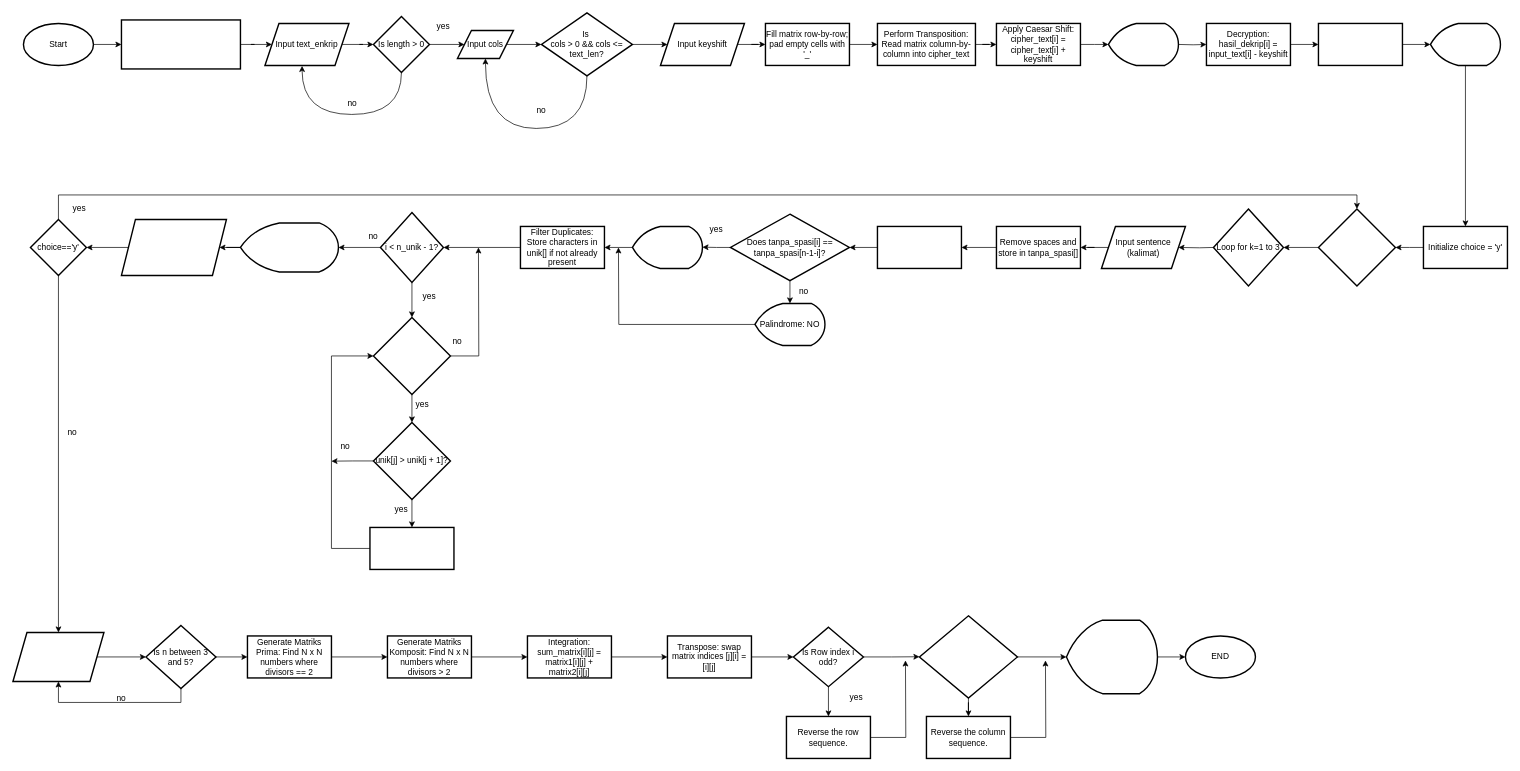
This 1520x771 diagram has some shape labels left out. The shapes that lost their labels are listed below. From the top down, each one's centre as x and y in pixels, then its label:
pixel 180 44: Initialize char text_enkrip[1024], int cols, int keyshift, and char matrix[2000]
pixel 1143 44: Display cipher_text
pixel 1360 44: Map to matrix column-by-column; read row-by-row while ignoring '_'
pixel 1465 44: Display Final Decrypted Result
pixel 173 247: input choice (y/n)
pixel 289 247: Display Char Count, Original, Inverse, Swap, and Sorted Unique Chars
pixel 667 247: Palindrome: YES
pixel 919 247: Create Inverse string and Swap character at index 0 with index n-1
pixel 1356 247: While choice == 'y'?
pixel 411 355: j < n_unik - i - 1? )
pixel 411 548: Swap unik[j] and unik[j+1]
pixel 58 656: Input matrix size (n)
pixel 968 656: Is Column index j odd?
pixel 1111 656: Display Aligned Navigation results and "SHIP SYSTEM RESTORED"
